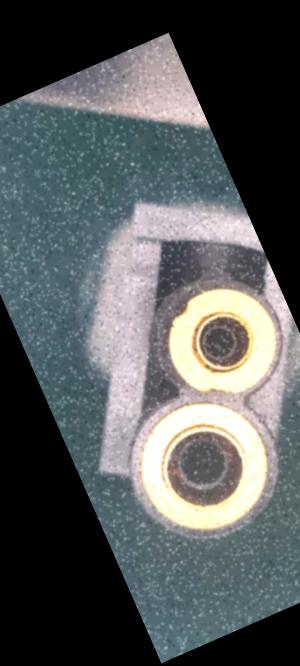bump: (159, 298, 198, 329), (206, 376, 238, 402)
